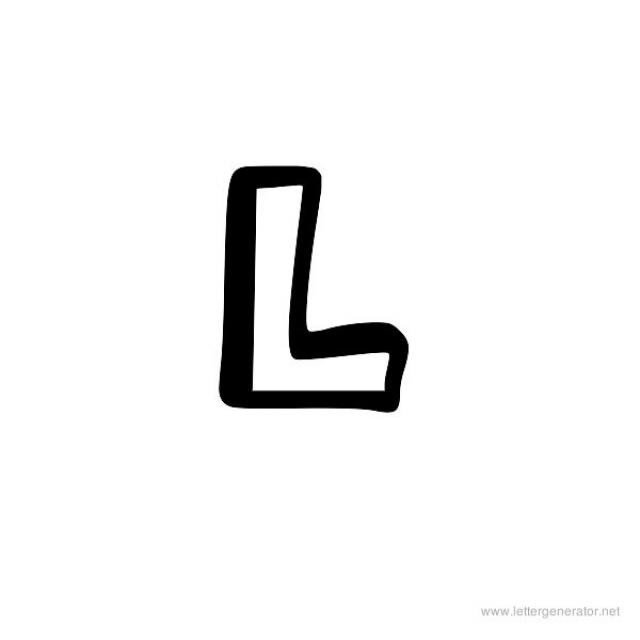L: (157, 121, 458, 454)
